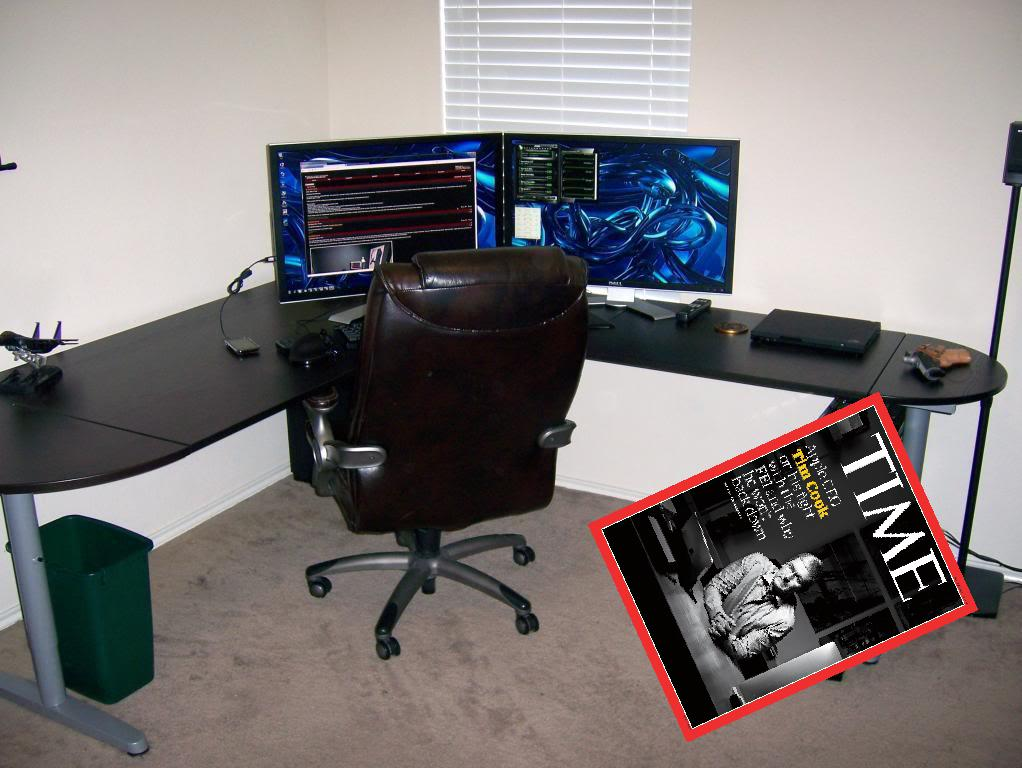times: (584, 389, 982, 744)
